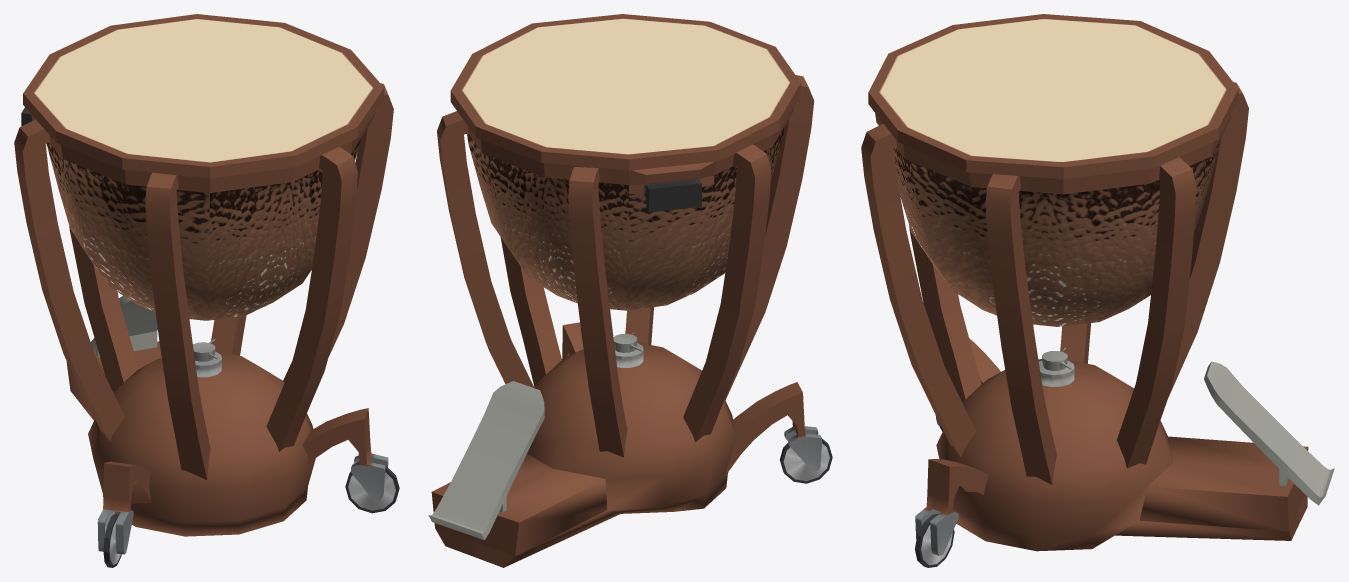
Rendered from Timpani.fbx.
The picture shows the model from 3 angles, left to right: view 1: azimuth 30°, elevation 25°; view 2: azimuth 150°, elevation 25°; view 3: azimuth 270°, elevation 25°; orthographic projection. The views are drawn at different scales.
Visible parts, largest first — view 1: SM_Drum; view 2: SM_Drum; view 3: SM_Drum.
Part boxes in pixels (bbox=[...]): SM_Drum: bbox=[14, 14, 399, 567]; SM_Drum: bbox=[428, 14, 832, 567]; SM_Drum: bbox=[861, 14, 1334, 567].
Bounding box in the file's own units: 4.85 × 5.72 × 5.85.
